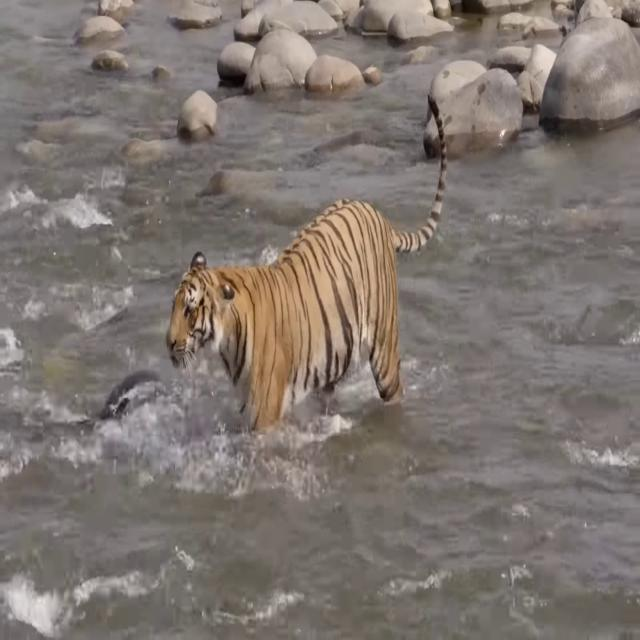tiger: (167, 93, 448, 437)
